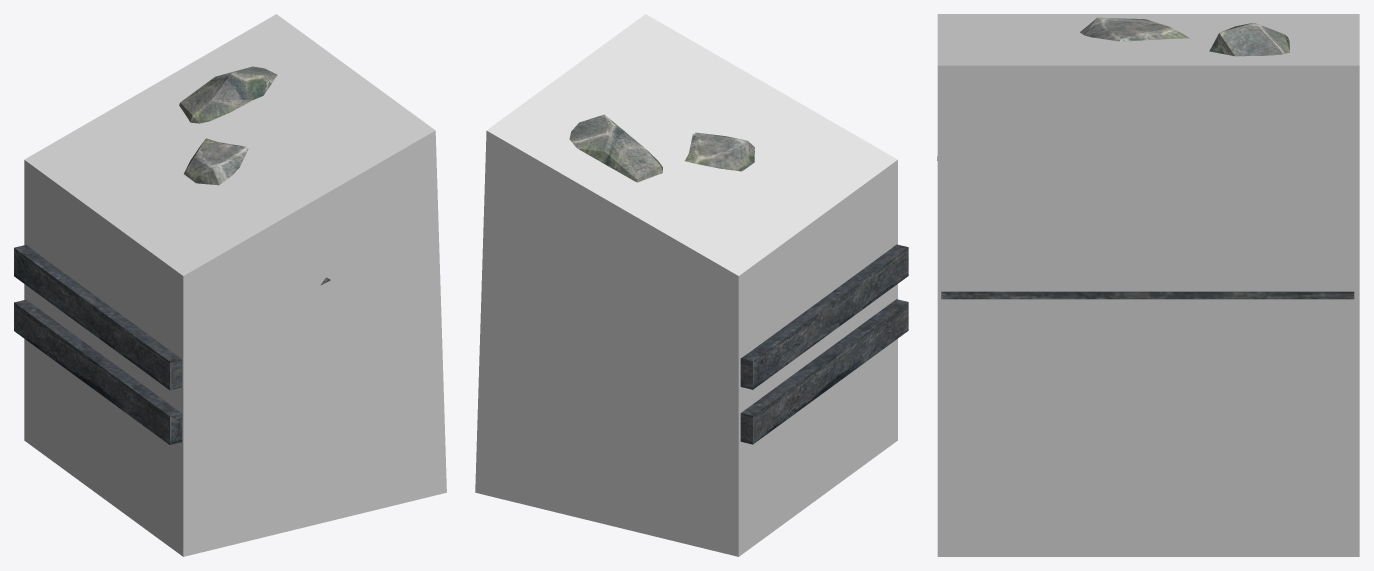
File: Scene_Object_ShiDun_5.FBX
3 renders of one model, left to right at view 1: azimuth 30°, elevation 25°; view 2: azimuth 150°, elevation 25°; view 3: azimuth 270°, elevation 25°, orthographic. The views are drawn at different scales.
Parts seen in each view (by area): view 1: Scene_Object_ShiDun_5_Xzm, Scene_Object_ShiDun_5_b, Scene_Object_ShiDun_5_a; view 2: Scene_Object_ShiDun_5_Xzm, Scene_Object_ShiDun_5_b, Scene_Object_ShiDun_5_a; view 3: Scene_Object_ShiDun_5_Xzm, Scene_Object_ShiDun_5_a, Scene_Object_ShiDun_5_b.
Boxes of the visible parts, x1,y1,x2,y2 form: Scene_Object_ShiDun_5_Xzm: (24, 14, 446, 556); Scene_Object_ShiDun_5_b: (14, 245, 181, 444); Scene_Object_ShiDun_5_a: (179, 66, 330, 285); Scene_Object_ShiDun_5_Xzm: (475, 14, 897, 556); Scene_Object_ShiDun_5_b: (740, 244, 908, 444); Scene_Object_ShiDun_5_a: (569, 114, 754, 182); Scene_Object_ShiDun_5_Xzm: (937, 14, 1359, 556); Scene_Object_ShiDun_5_a: (937, 17, 1289, 160); Scene_Object_ShiDun_5_b: (941, 291, 1354, 299).
Size of the model in its own units: 157 by 199 by 157.
